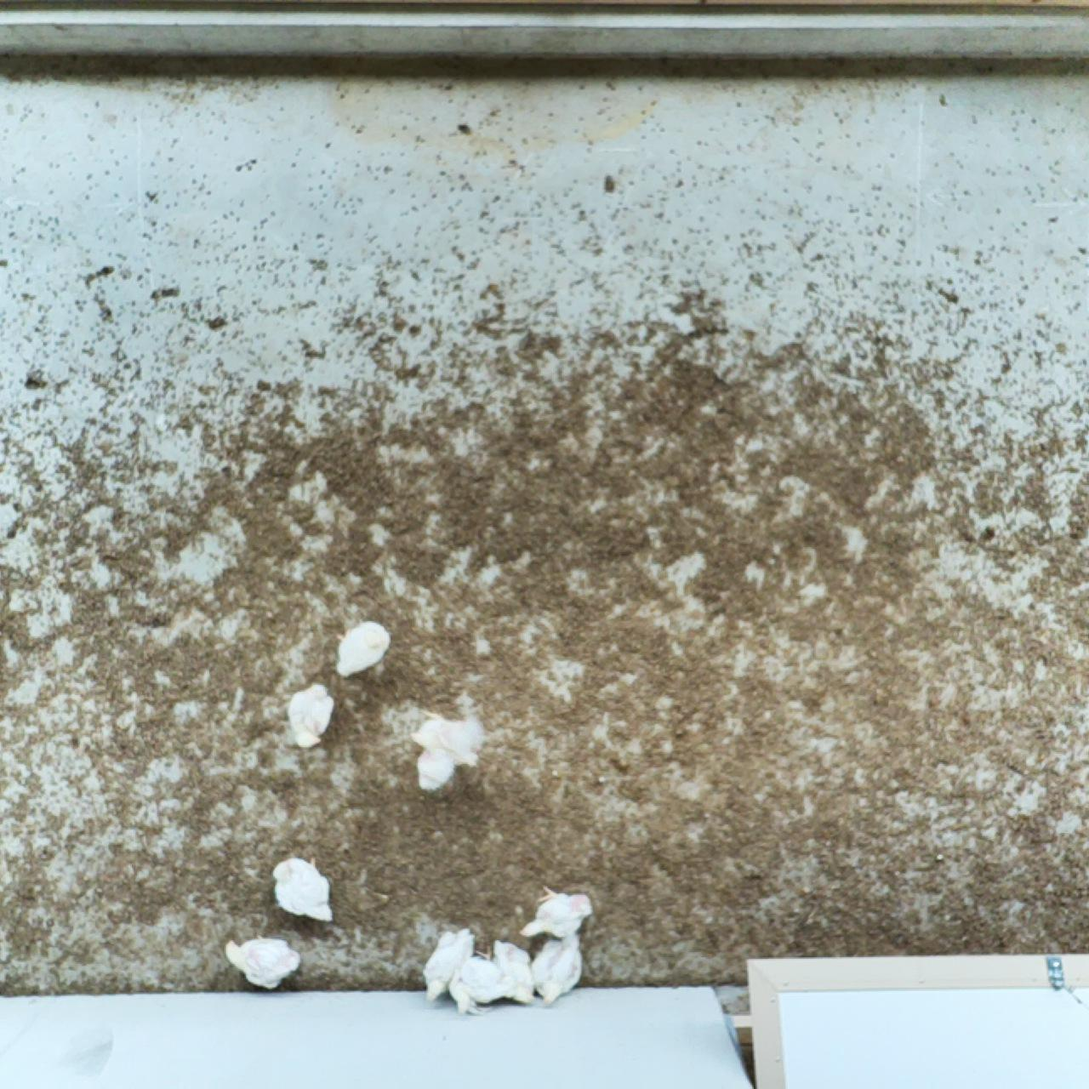chicken: (407, 703, 486, 795), (445, 941, 517, 1017), (270, 852, 339, 925), (222, 932, 305, 992), (419, 924, 478, 1005), (518, 881, 596, 939), (530, 933, 586, 1008), (283, 680, 340, 751), (333, 617, 393, 679), (492, 937, 540, 1006)
